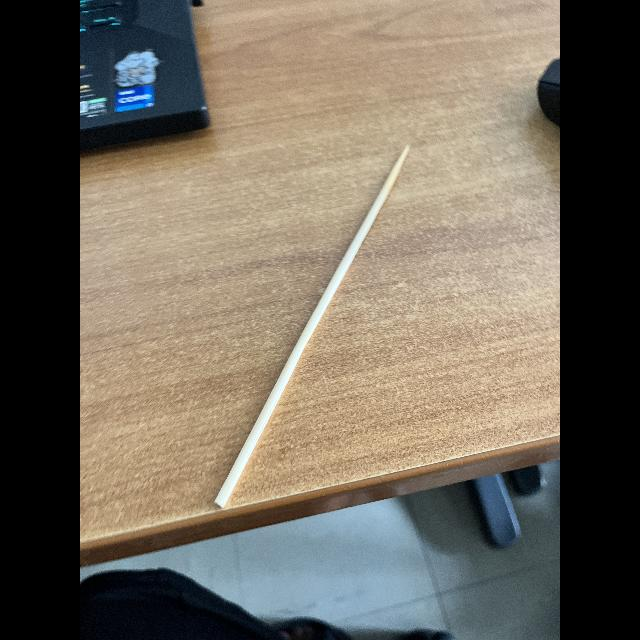stick: (192, 132, 432, 534)
